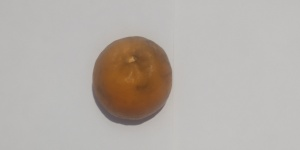BAD: (91, 34, 175, 122)
